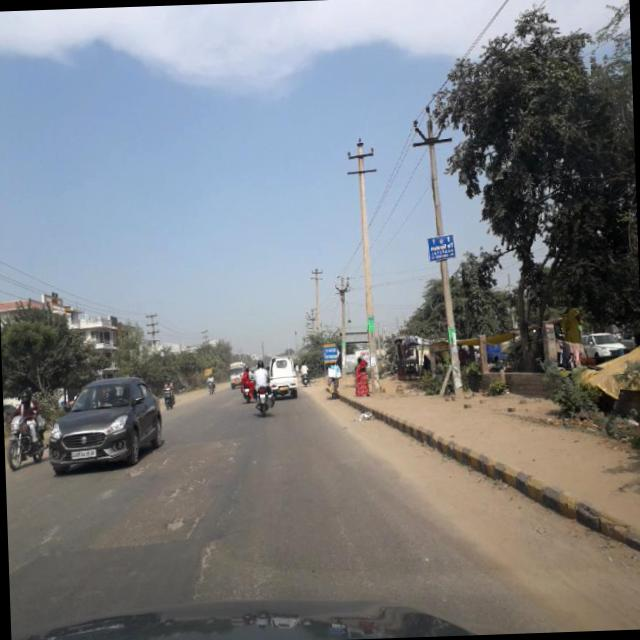crack: (187, 534, 220, 605)
pothole: (161, 508, 202, 532), (125, 464, 163, 481), (28, 523, 66, 540), (167, 480, 204, 497)
